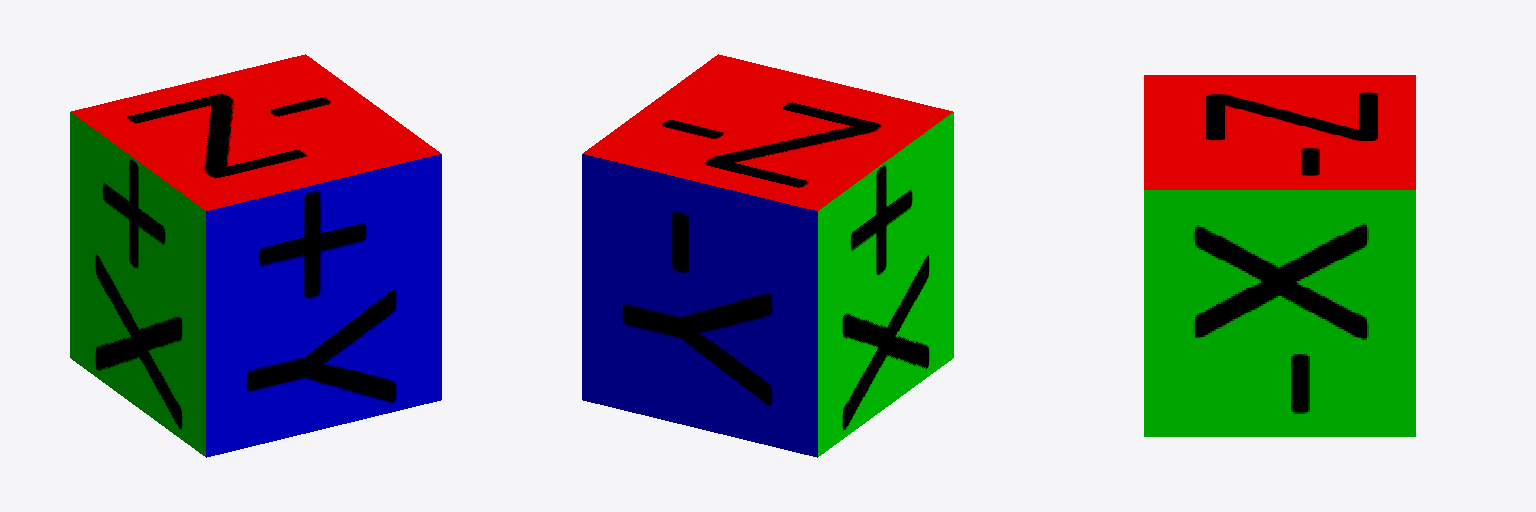
3 renders of one model, left to right at view 1: azimuth 30°, elevation 25°; view 2: azimuth 150°, elevation 25°; view 3: azimuth 270°, elevation 25°, orthographic.
Parts seen in each view (by area): view 1: test_Cube; view 2: test_Cube; view 3: test_Cube.
Part boxes in pixels (bbox=[...]): test_Cube: bbox=[70, 54, 441, 457]; test_Cube: bbox=[582, 54, 953, 457]; test_Cube: bbox=[1144, 75, 1415, 436].
Bounding box in the file's own units: 2 × 2 × 2.
1 materials, 1 textured.